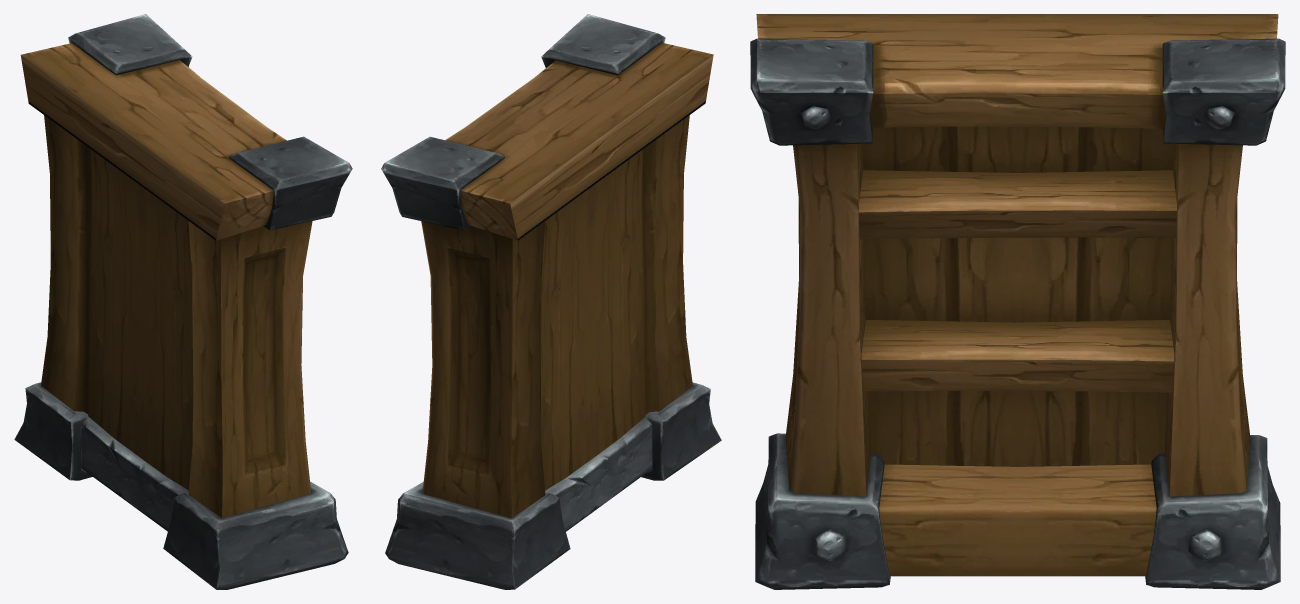
The picture shows the model from 3 angles, left to right: view 1: azimuth 30°, elevation 25°; view 2: azimuth 150°, elevation 25°; view 3: azimuth 270°, elevation 25°; orthographic projection. The views are drawn at different scales.
Bounding box in the file's own units: 1.06 × 2.92 × 2.77.
Materials: 3 (3 with a texture image).
